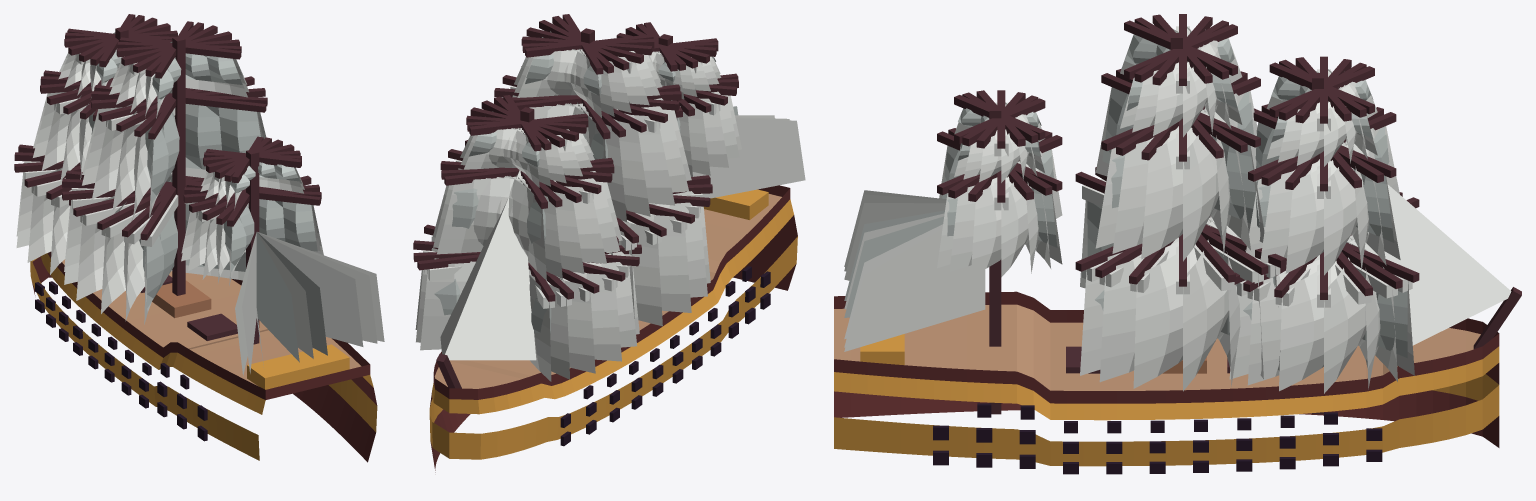
The model's file is ship.ship_of_the_line.glb.
3 views of the same model, side by side, from view 1: azimuth 30°, elevation 25°; view 2: azimuth 150°, elevation 25°; view 3: azimuth 270°, elevation 25° (orthographic). The views are drawn at different scales.
Parts seen in each view (by area): view 1: hull, bulwark, full_broad_p_spanker, full_irons_s0_spanker, main, cabin, full_irons_p0_main_top, full_irons_p1_main_top, full_run_main_course, full_beam_p_spanker, full_broad_s_main_course, full_irons_p0_spanker (+68 smaller); view 2: hull, full_close_s_jib, full_close_s_spanker, bulwark, full_run_main_course, full_broad_p_main_course, full_run_fore_course, full_beam_s_fore_top, full_beam_p_fore_top, full_run_main_top, full_broad_p_fore_course, full_broad_p_main_top (+67 smaller); view 3: hull, bulwark, full_close_p_spanker, full_close_p_jib, full_broad_p_main_course, full_broad_p_fore_course, full_broad_p_main_top, full_run_main_course, full_beam_p_main_course, full_run_fore_course, full_run_main_top, full_broad_p_fore_top (+48 smaller).
Boxes of the visible parts, left/top/right/bottom form: hull: left=30, top=253, right=377, bottom=462; bulwark: left=47, top=251, right=370, bottom=399; full_broad_p_spanker: left=257, top=232, right=363, bottom=346; full_irons_s0_spanker: left=256, top=232, right=299, bottom=362; main: left=172, top=36, right=185, bottom=295; cabin: left=247, top=344, right=349, bottom=389; full_irons_p0_main_top: left=145, top=106, right=260, bottom=169; full_irons_p1_main_top: left=185, top=104, right=221, bottom=169; full_run_main_course: left=76, top=178, right=171, bottom=300; full_beam_p_spanker: left=259, top=232, right=377, bottom=343; full_broad_s_main_course: left=101, top=176, right=172, bottom=313; full_irons_p0_spanker: left=257, top=232, right=327, bottom=355; hull: left=429, top=194, right=797, bottom=472; full_close_s_jib: left=445, top=170, right=536, bottom=360; full_close_s_spanker: left=692, top=118, right=805, bottom=198; bulwark: left=433, top=185, right=790, bottom=399; full_run_main_course: left=635, top=213, right=691, bottom=312; full_broad_p_main_course: left=622, top=220, right=662, bottom=326; full_run_fore_course: left=573, top=272, right=621, bottom=361; full_beam_s_fore_top: left=433, top=171, right=622, bottom=247; full_beam_p_fore_top: left=509, top=176, right=562, bottom=278; full_run_main_top: left=565, top=103, right=674, bottom=205; full_broad_p_fore_course: left=529, top=269, right=595, bottom=373; full_broad_p_main_top: left=567, top=103, right=650, bottom=216; hull: left=834, top=304, right=1499, bottom=466; bulwark: left=834, top=291, right=1499, bottom=403; full_close_p_spanker: left=844, top=229, right=985, bottom=351; full_close_p_jib: left=1341, top=144, right=1511, bottom=345; full_broad_p_main_course: left=1133, top=221, right=1217, bottom=388; full_broad_p_fore_course: left=1279, top=240, right=1357, bottom=391; full_broad_p_main_top: left=1141, top=111, right=1208, bottom=259; full_run_main_course: left=1183, top=216, right=1229, bottom=391; full_beam_p_main_course: left=1099, top=221, right=1240, bottom=382; full_run_fore_course: left=1324, top=234, right=1366, bottom=393; full_run_main_top: left=1183, top=107, right=1218, bottom=261; full_broad_p_fore_top: left=1285, top=145, right=1348, bottom=273.
Size of the model in its own units: 1.44 by 2.26 by 3.41.
